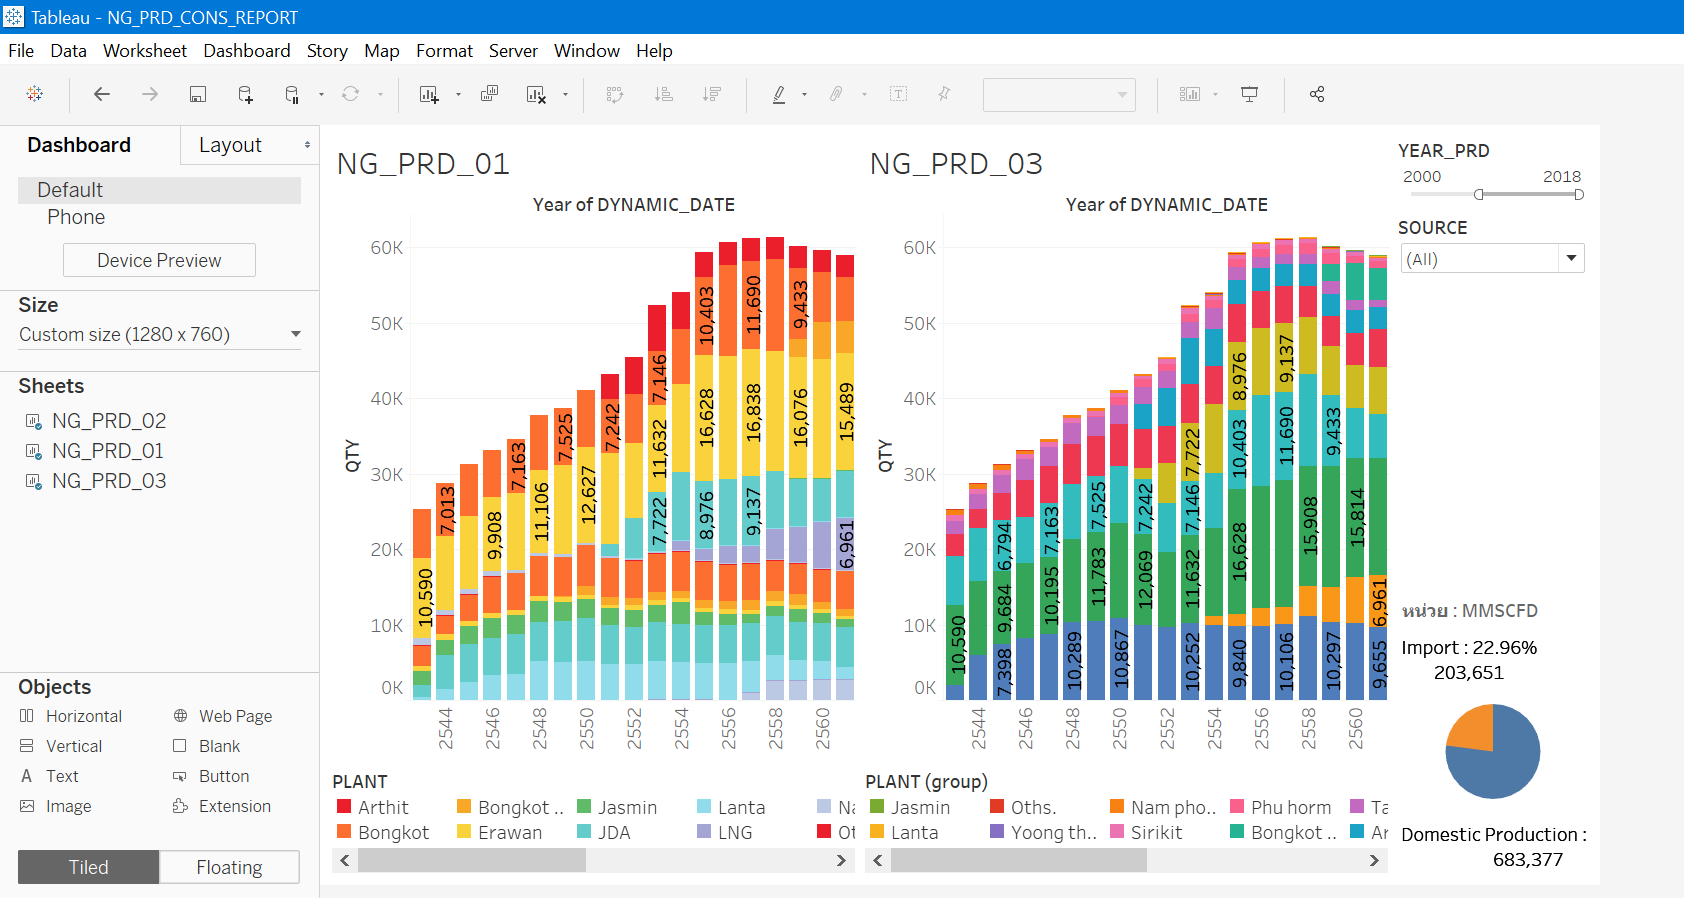

Layout of this report page (visuals, bound fields, positions):
{"tool":"tableau","page":{"name":"NG Production","canvas":[1280,760],"ordinal":1},"visuals":[{"type":"worksheet","title":"NG_PRD_01","mark":"Bar","rows":["QTY"],"cols":["Calculation_779122767350009865"],"box":[8,8,533,631]},{"type":"worksheet","title":"NG_PRD_03","mark":"Bar","rows":["QTY"],"cols":["Calculation_779122767350009865"],"box":[541,8,533,631]},{"type":"filter","title":"NG_PRD_01","param":"[federated.1fcbmbf0emeqxa18owu6x1enk86s].[none:YEAR_PRD:qk]","box":[1074,8,198,77]},{"type":"filter","title":"NG_PRD_01","param":"[federated.1fcbmbf0emeqxa18owu6x1enk86s].[none:SOURCE:nk]","box":[1074,85,198,295]},{"type":"text","box":[1074,380,198,33]},{"type":"worksheet","title":"NG_PRD_02","mark":"Pie","box":[1074,413,198,339]},{"type":"legend","title":"NG_PRD_01","param":"[federated.1fcbmbf0emeqxa18owu6x1enk86s].[none:PLANT:nk]","box":[8,639,533,113]},{"type":"legend","title":"NG_PRD_03","param":"[federated.1fcbmbf0emeqxa18owu6x1enk86s].[PLANT (group)]","box":[541,639,533,113]}]}

Visuals, with their boxes on the page's 1280x760 design canvas (x1, y1, x2, y2). These are canvas units, not pixel positions in the 1684x898 screenshot, which may show the page scaled, cropped or inside an application window:
"NG_PRD_01" worksheet (Bar marks): [8, 8, 541, 639]
"NG_PRD_03" worksheet (Bar marks): [541, 8, 1074, 639]
"NG_PRD_01" filter: [1074, 8, 1272, 85]
"NG_PRD_01" filter: [1074, 85, 1272, 380]
text: [1074, 380, 1272, 413]
"NG_PRD_02" worksheet (Pie marks): [1074, 413, 1272, 752]
"NG_PRD_01" legend: [8, 639, 541, 752]
"NG_PRD_03" legend: [541, 639, 1074, 752]
